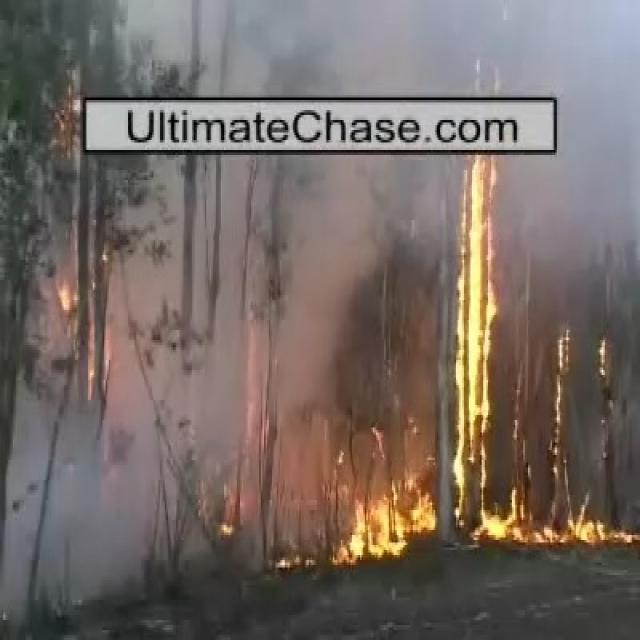fire: (454, 159, 495, 503), (352, 494, 436, 556)
smoke: (17, 425, 96, 602), (511, 8, 626, 89)
